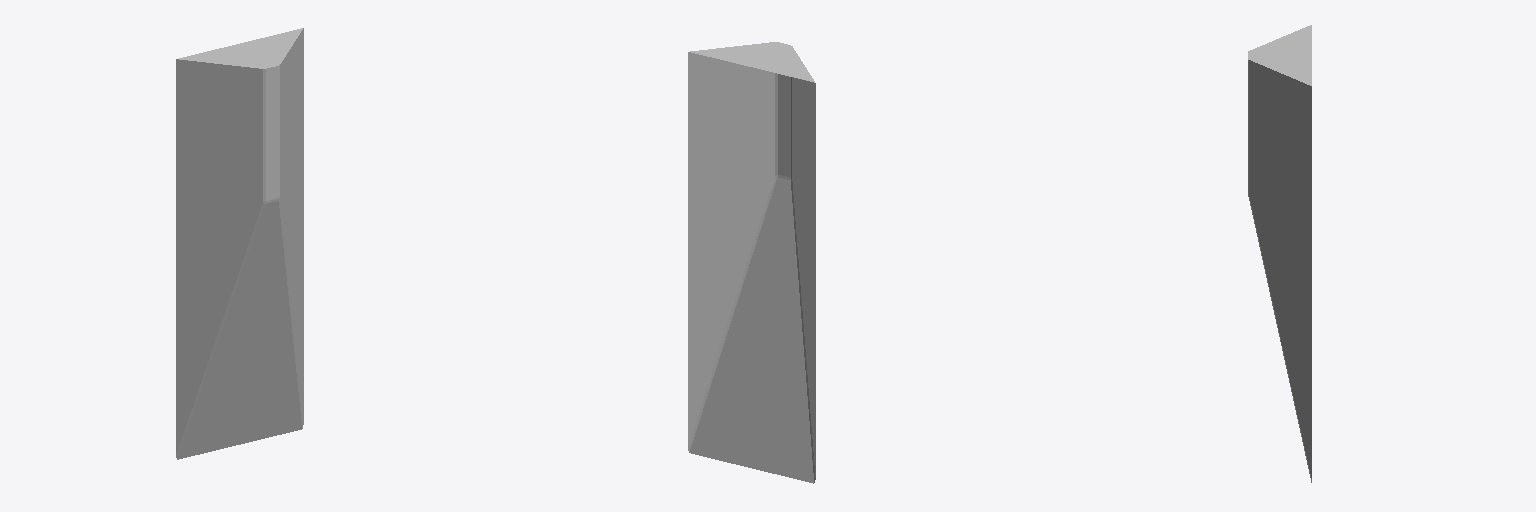
File: wall_element_2_bottom.obj
The picture shows the model from 3 angles: view 1: azimuth 30°, elevation 25°; view 2: azimuth 150°, elevation 25°; view 3: azimuth 270°, elevation 25°; orthographic projection.
Parts seen in each view (by area): view 1: wall_element_2_bottom; view 2: wall_element_2_bottom; view 3: wall_element_2_bottom.
Boxes of the visible parts, box(x1,y1,x2,y2) form: wall_element_2_bottom: box(176, 28, 303, 459); wall_element_2_bottom: box(688, 42, 815, 483); wall_element_2_bottom: box(1248, 25, 1311, 482).
Size of the model in its own units: 1 by 3 by 0.44.